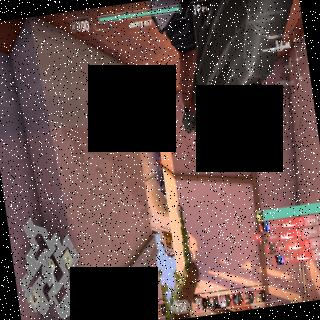ENEMY-BODY: (156, 150, 162, 163)
